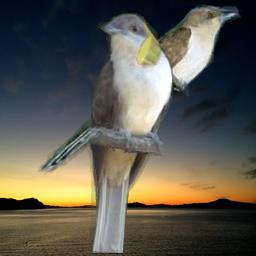Cuckoo: (37, 4, 244, 180), (85, 13, 173, 253)
